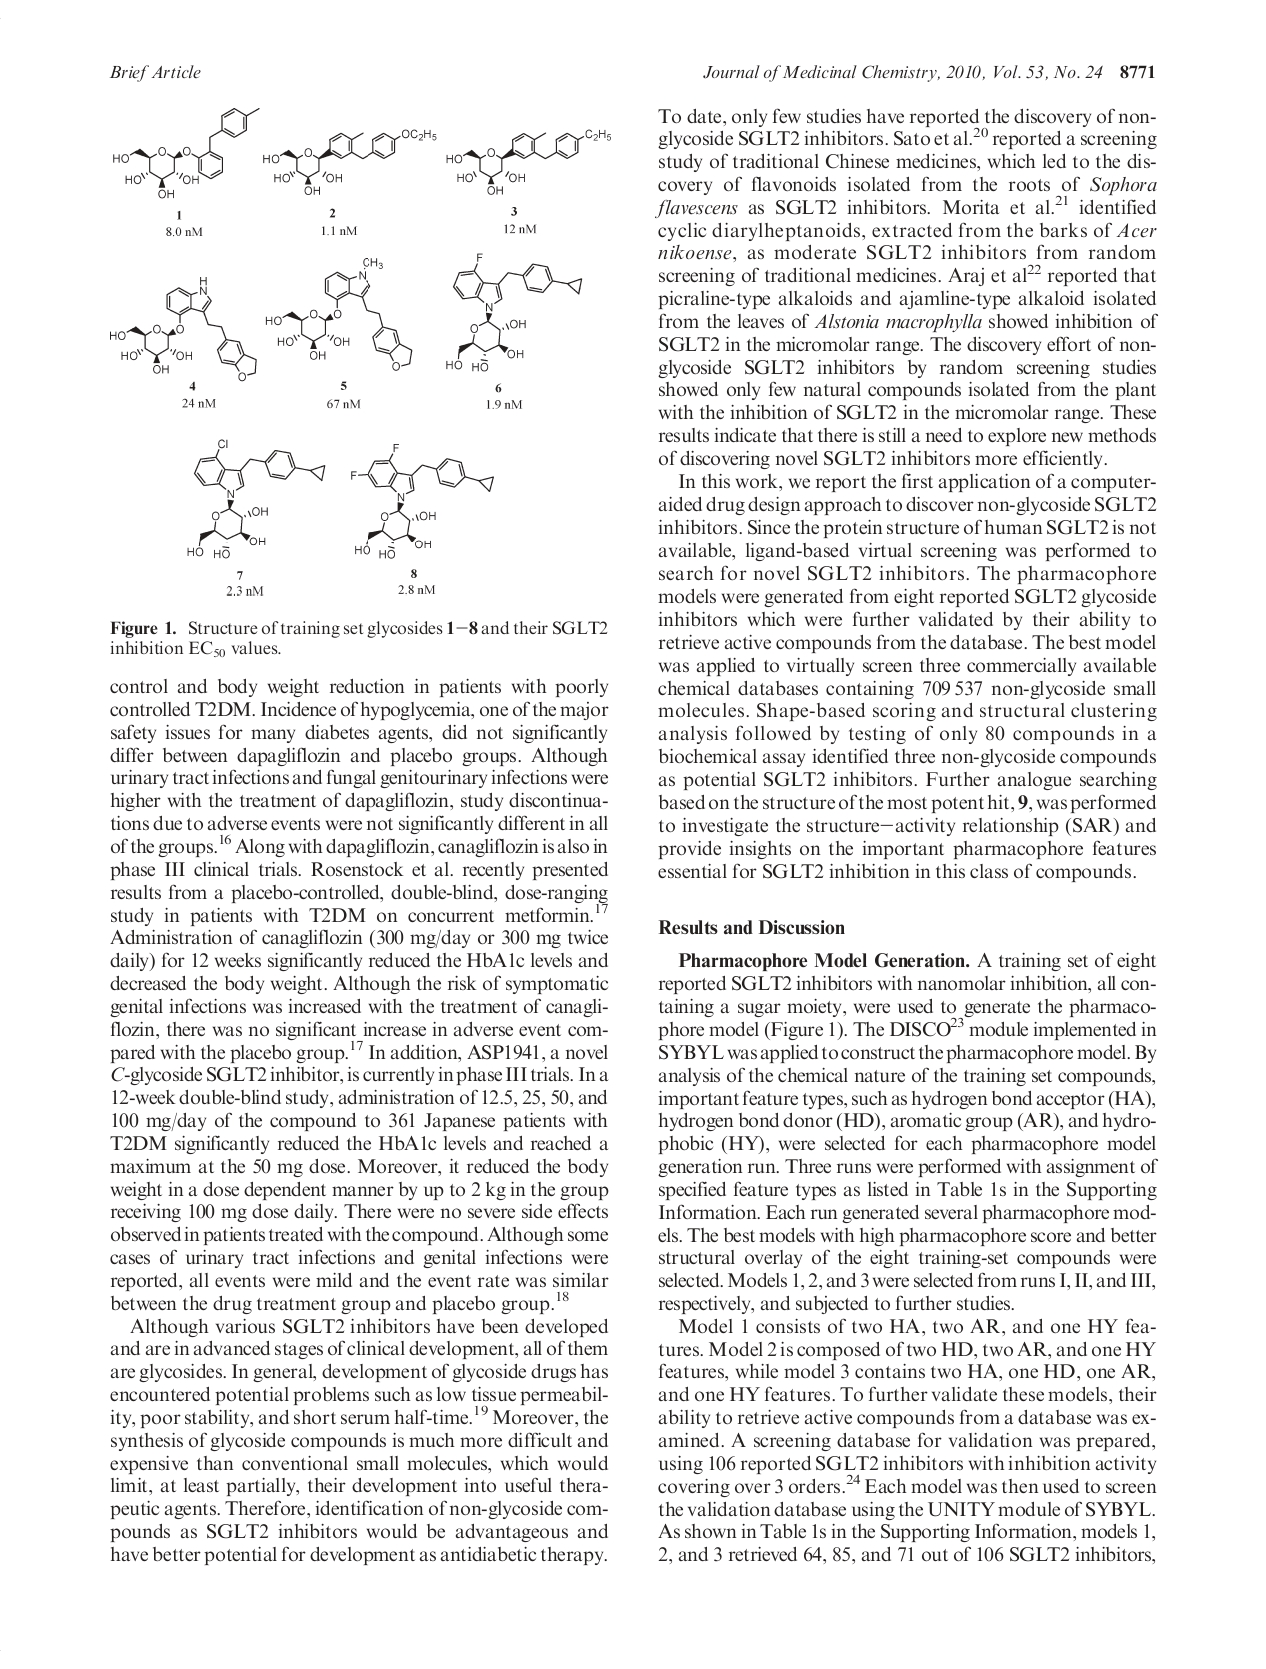exist_molecular: (184, 434, 326, 560), (265, 255, 414, 374), (348, 443, 496, 559), (443, 251, 584, 372), (108, 273, 259, 382), (110, 102, 261, 202), (261, 126, 442, 199), (444, 125, 613, 198)
